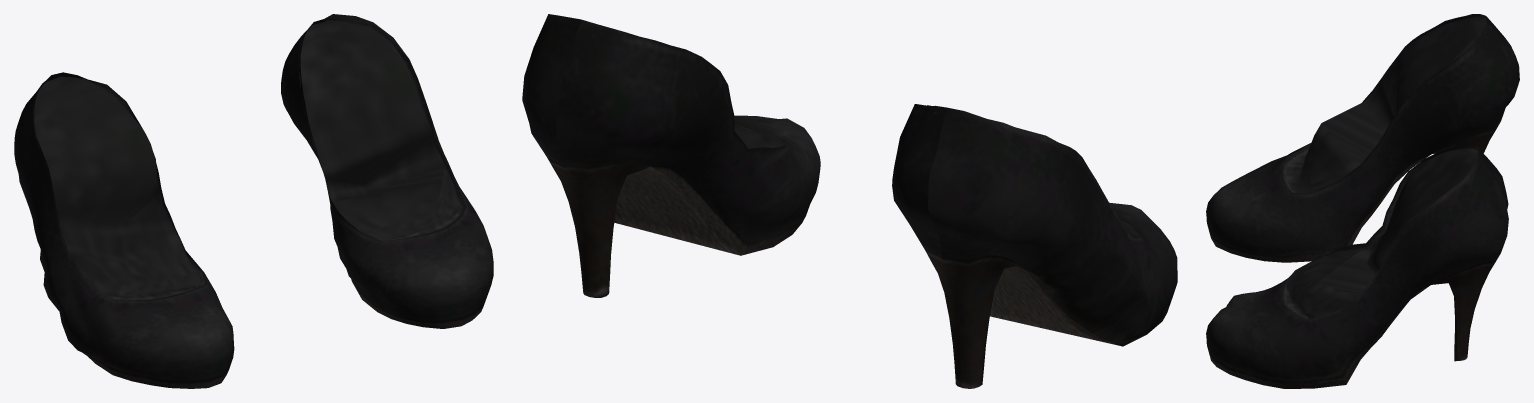
The model's file is ada-shoes.glb.
3 views of the same model, side by side, from view 1: azimuth 30°, elevation 25°; view 2: azimuth 150°, elevation 25°; view 3: azimuth 270°, elevation 25° (orthographic). The views are drawn at different scales.
Parts seen in each view (by area): view 1: High_Heels; view 2: High_Heels; view 3: High_Heels.
Part boxes in pixels (x1,y1,x2,y2): High_Heels: [14, 14, 493, 388]; High_Heels: [522, 14, 1177, 388]; High_Heels: [1206, 14, 1519, 388].
Size of the model in its own units: 0.3324 by 0.171 by 0.2252.
Materials: 1 (1 with a texture image).
